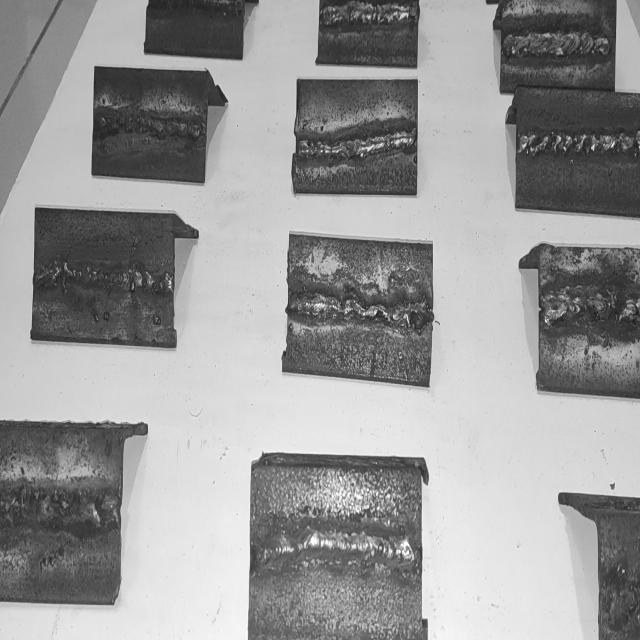Bad Weld: (36, 263, 173, 295), (96, 113, 202, 142), (544, 293, 640, 324)
Defect: (34, 268, 175, 291), (568, 287, 633, 328), (604, 568, 640, 635), (95, 111, 163, 141)
Good Weld: (254, 533, 418, 570), (0, 492, 118, 531), (290, 295, 429, 326), (298, 130, 416, 160), (518, 131, 640, 153), (321, 0, 418, 26), (503, 35, 613, 57)
